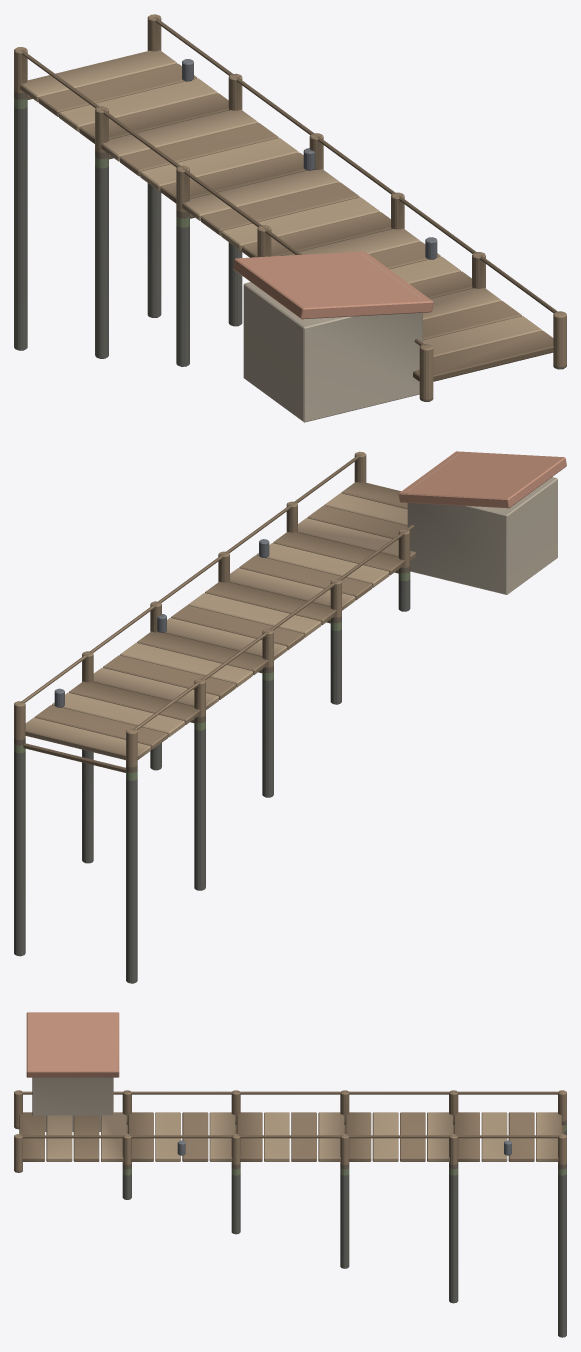
File: pier_dalkkeut.glb
The picture shows the model from 3 angles, top to bottom: view 1: azimuth 30°, elevation 25°; view 2: azimuth 150°, elevation 25°; view 3: azimuth 270°, elevation 25°; orthographic projection. The views are drawn at different scales.
Size of the model in its own units: 7.36 by 9.81 by 20.34.
